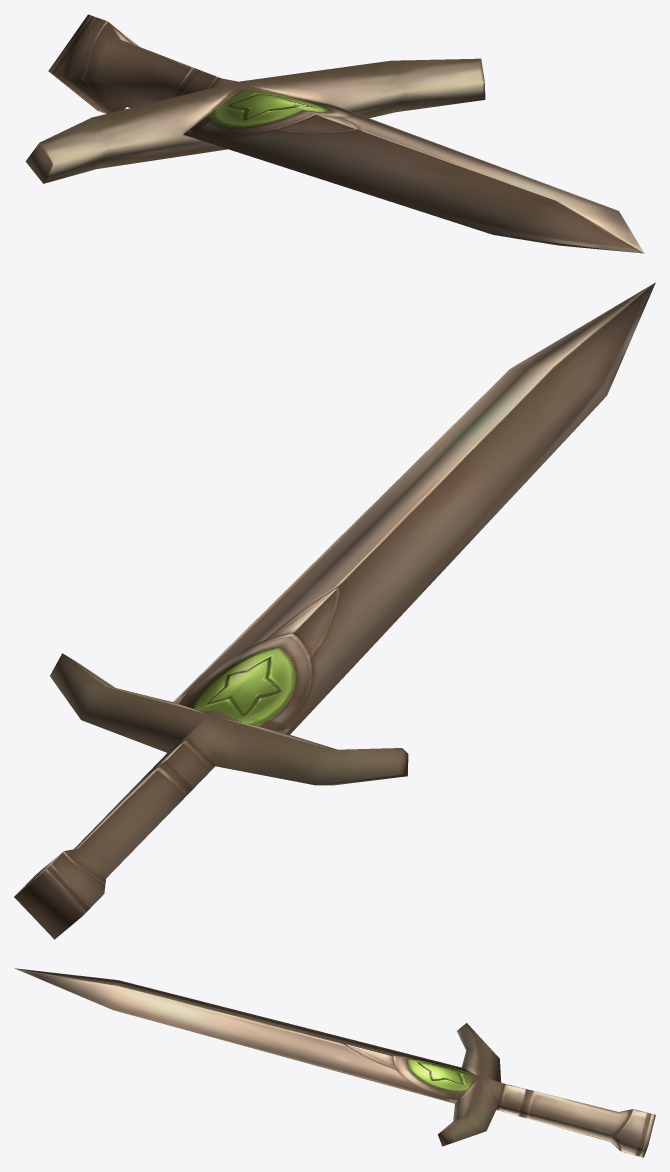
The model's file is Sword(23).obj.
The picture shows the model from 3 angles, top to bottom: view 1: azimuth 30°, elevation 25°; view 2: azimuth 150°, elevation 25°; view 3: azimuth 270°, elevation 25°; orthographic projection. The views are drawn at different scales.
Parts seen in each view (by area): view 1: sword1_LOD003; view 2: sword1_LOD003; view 3: sword1_LOD003.
Boxes of the visible parts, bbox=[...] form: sword1_LOD003: bbox=[25, 14, 644, 253]; sword1_LOD003: bbox=[14, 282, 655, 939]; sword1_LOD003: bbox=[15, 968, 655, 1157].
Bounding box in the file's own units: 0.5242 × 0.3892 × 1.34.
